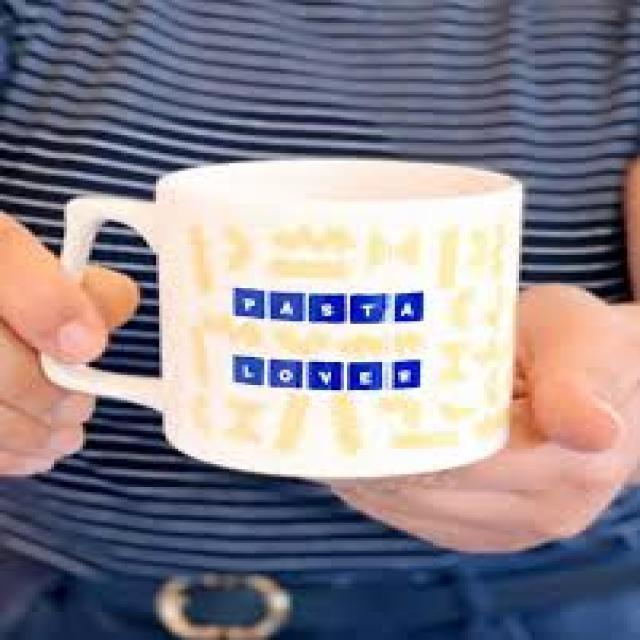taza: (43, 154, 524, 481)
